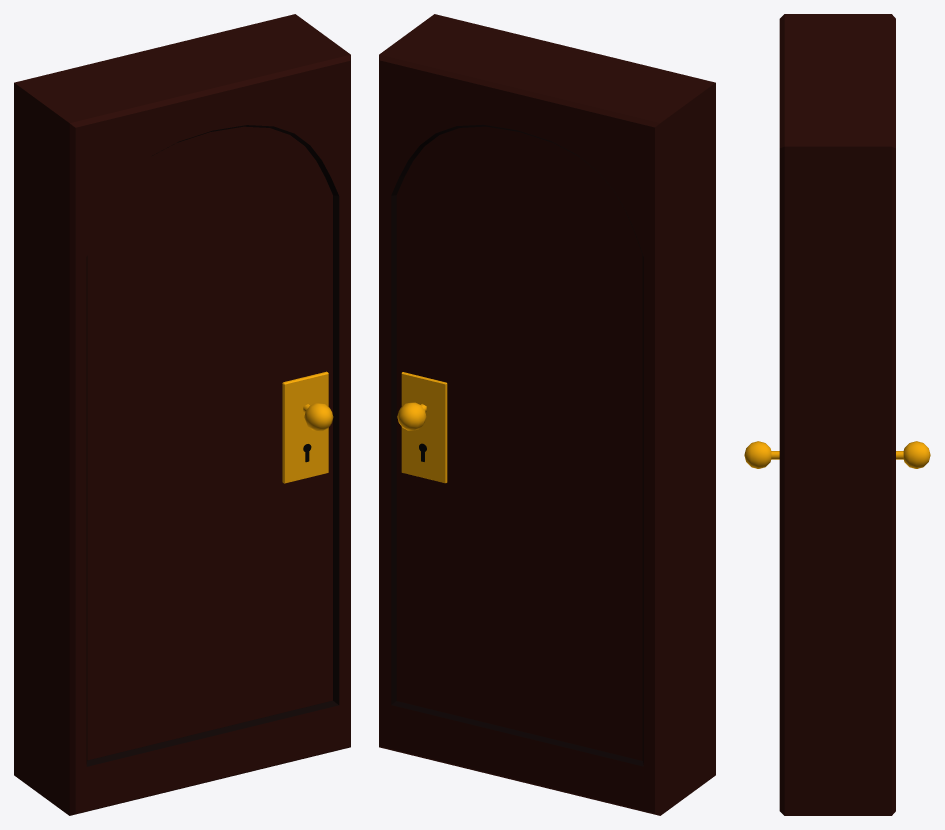
Rendered from DoorSmall.FBX.
The picture shows the model from 3 angles, left to right: view 1: azimuth 30°, elevation 25°; view 2: azimuth 150°, elevation 25°; view 3: azimuth 270°, elevation 25°; orthographic projection. The views are drawn at different scales.
Parts seen in each view (by area): view 1: DoorSmall, DoorKnobSmall; view 2: DoorSmall, DoorKnobSmall; view 3: DoorSmall, DoorKnobSmall.
Boxes of the visible parts, bbox=[...] form: DoorSmall: bbox=[14, 14, 350, 815]; DoorKnobSmall: bbox=[282, 371, 333, 483]; DoorSmall: bbox=[379, 14, 715, 815]; DoorKnobSmall: bbox=[397, 372, 447, 483]; DoorSmall: bbox=[779, 14, 895, 815]; DoorKnobSmall: bbox=[744, 441, 930, 468].
Size of the model in its own units: 6.36 by 14.96 by 3.77.
